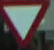Give way: (0, 0, 51, 43)
